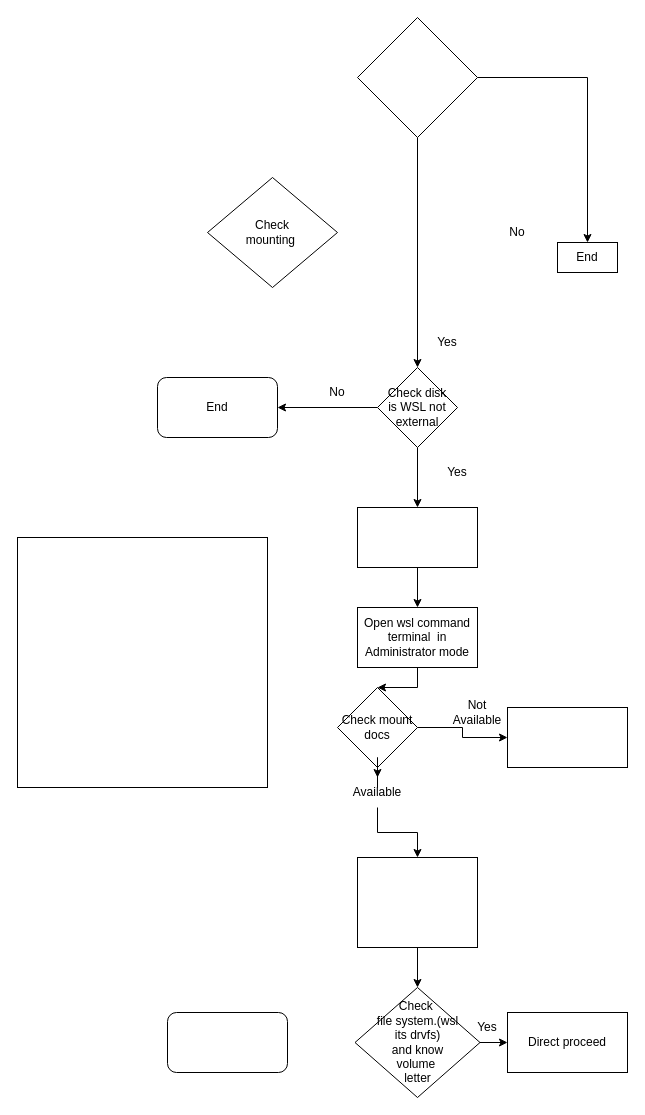
Image size: 645x1115. Some labels were removed from this diagram. Each missing label, with the centre of its shape:
"Check Windows Build 2200" belongs at point (417, 77).
"Close Linux WSL Window" belongs at point (417, 537).
"mount -t type volume mountpoint <Mount a file system on c>" belongs at point (417, 902).
"You need Path," belongs at point (142, 662).
